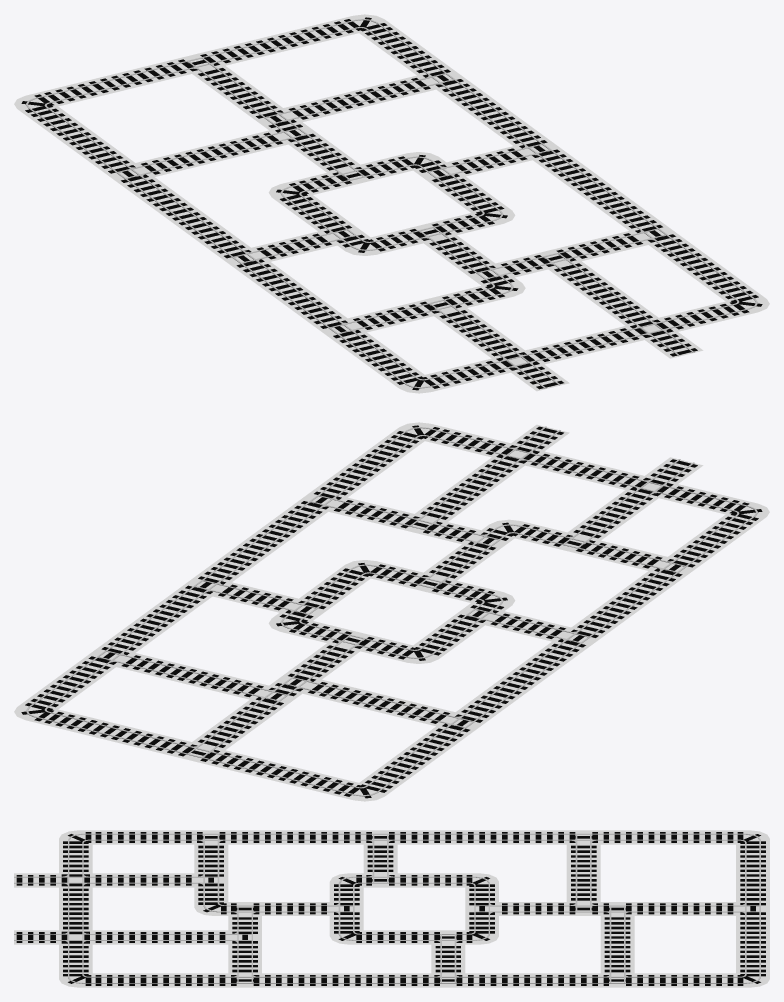
File: Map-Rail.fbx
3 views of the same model, one above another, from view 1: azimuth 30°, elevation 25°; view 2: azimuth 150°, elevation 25°; view 3: azimuth 270°, elevation 25° (orthographic). The views are drawn at different scales.
Parts seen in each view (by area): view 1: Map-Rail; view 2: Map-Rail; view 3: Map-Rail.
Boxes of the visible parts, left/top/right/bottom form: Map-Rail: left=14, top=14, right=769, bottom=393; Map-Rail: left=14, top=422, right=769, bottom=801; Map-Rail: left=14, top=830, right=769, bottom=987.
Bounding box in the file's own units: 13.2 × 0.0239 × 26.79.
